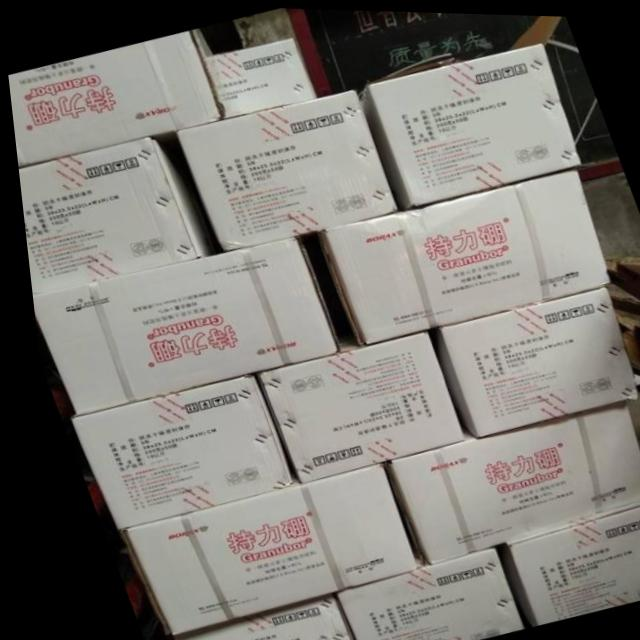box: (26, 233, 330, 414), (103, 459, 407, 638), (319, 166, 606, 345), (376, 398, 640, 563), (357, 39, 580, 206), (175, 87, 393, 251), (62, 373, 285, 531), (423, 282, 632, 435), (248, 329, 453, 481), (15, 137, 215, 292), (7, 27, 220, 167), (482, 490, 640, 623), (317, 543, 511, 640), (156, 591, 342, 640), (202, 36, 315, 115)
